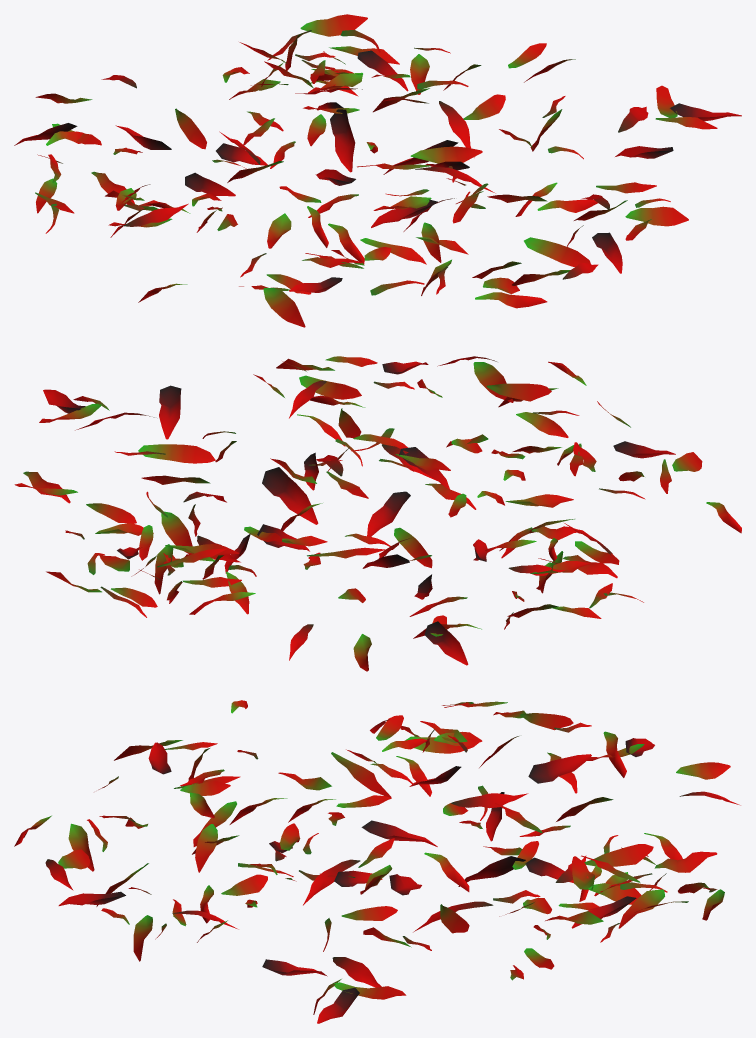
The model's file is Var3_LOD0.fbx.
3 renders of one model, top to bottom at view 1: azimuth 30°, elevation 25°; view 2: azimuth 150°, elevation 25°; view 3: azimuth 270°, elevation 25°, orthographic. The views are drawn at different scales.
Visible parts, largest first — view 1: _09ad_Var3_LOD0; view 2: _09ad_Var3_LOD0; view 3: _09ad_Var3_LOD0.
Boxes of the visible parts, x1,y1,x2,y2 form: _09ad_Var3_LOD0: (14, 14, 741, 327); _09ad_Var3_LOD0: (14, 356, 741, 671); _09ad_Var3_LOD0: (14, 700, 740, 1023).
Bounding box in the file's own units: 115 × 8.28 × 109.
